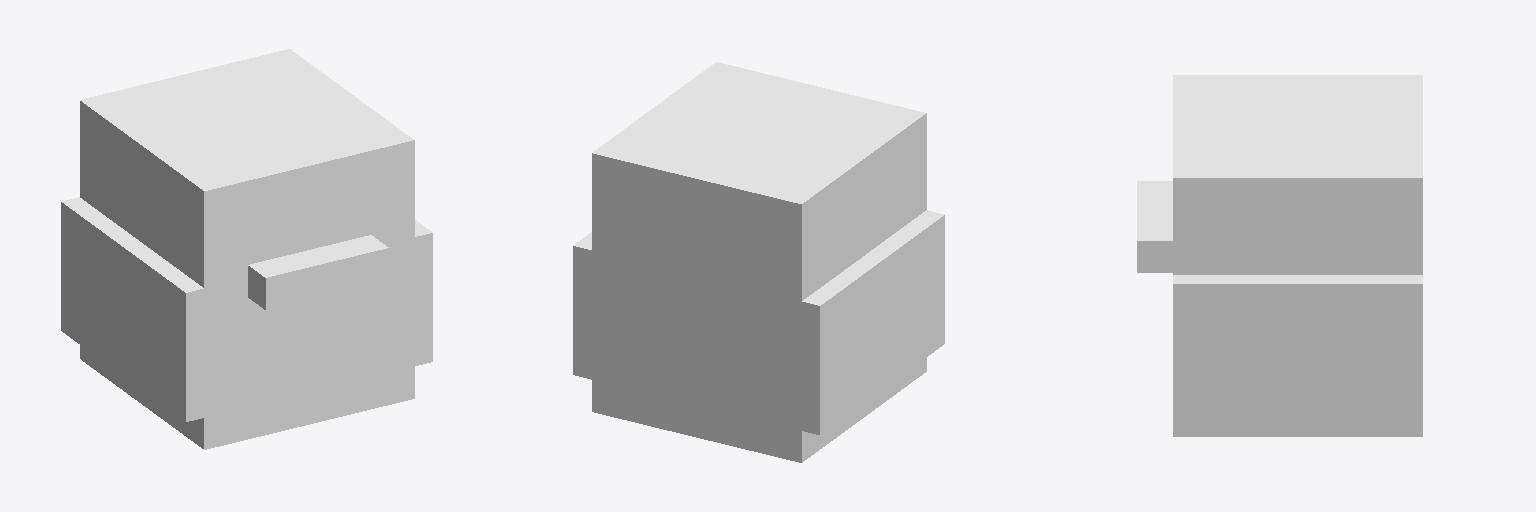
Rendered from Enemy3_2.obj.
3 views of the same model, side by side, from view 1: azimuth 30°, elevation 25°; view 2: azimuth 150°, elevation 25°; view 3: azimuth 270°, elevation 25° (orthographic).
Parts seen in each view (by area): view 1: Enemy3_2; view 2: Enemy3_2; view 3: Enemy3_2.
Boxes of the visible parts, <box> form: Enemy3_2: <box>61,49,432,449</box>; Enemy3_2: <box>573,62,944,462</box>; Enemy3_2: <box>1137,75,1422,436</box>.
Bounding box in the file's own units: 40 × 40 × 40.